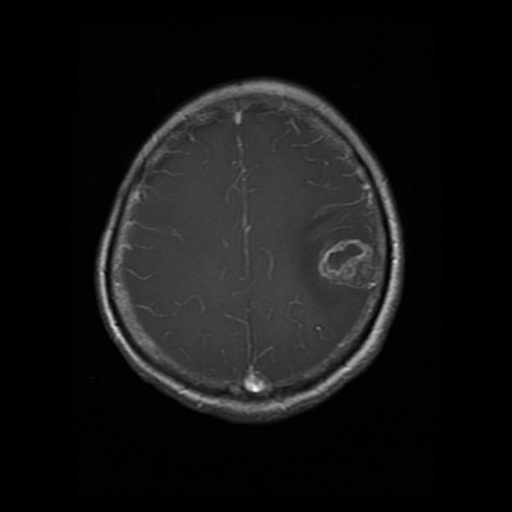glioma: (299, 211, 378, 302)
